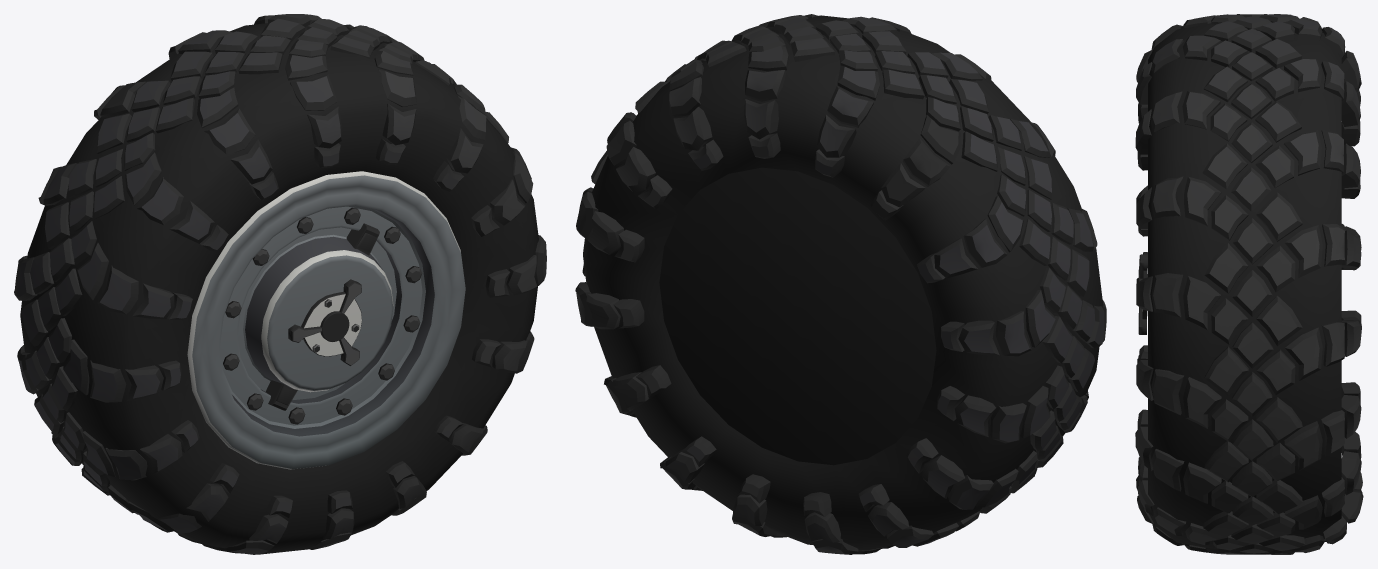
File: wheel_09.fbx
3 renders of one model, left to right at view 1: azimuth 30°, elevation 25°; view 2: azimuth 150°, elevation 25°; view 3: azimuth 270°, elevation 25°, orthographic.
Visible parts, largest first — view 1: wheel_09; view 2: wheel_09; view 3: wheel_09.
Part boxes in pixels (bbox=[...]): wheel_09: bbox=[14, 14, 546, 554]; wheel_09: bbox=[575, 14, 1106, 554]; wheel_09: bbox=[1135, 14, 1363, 554].
Size of the model in its own units: 135 by 134 by 56.57.
